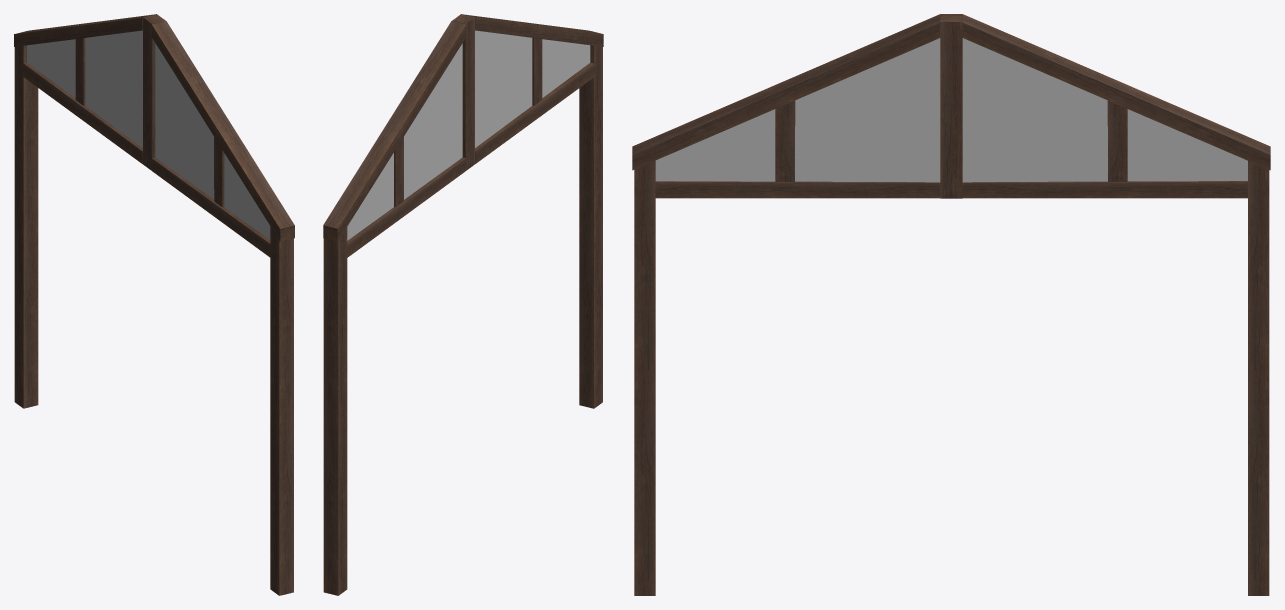
Rendered from yane_frame_2.5t_1f_1.fbx.
3 renders of one model, left to right at view 1: azimuth 30°, elevation 25°; view 2: azimuth 150°, elevation 25°; view 3: azimuth 270°, elevation 25°, orthographic. The views are drawn at different scales.
Parts seen in each view (by area): view 1: yane_frame_2.5t_1f_1; view 2: yane_frame_2.5t_1f_1; view 3: yane_frame_2.5t_1f_1.
Part boxes in pixels (x1=…): yane_frame_2.5t_1f_1: x1=14, y1=14, x2=294, y2=595; yane_frame_2.5t_1f_1: x1=323, y1=14, x2=603, y2=595; yane_frame_2.5t_1f_1: x1=632, y1=14, x2=1270, y2=595.
Bounding box in the file's own units: 18.18 × 568 × 572.
